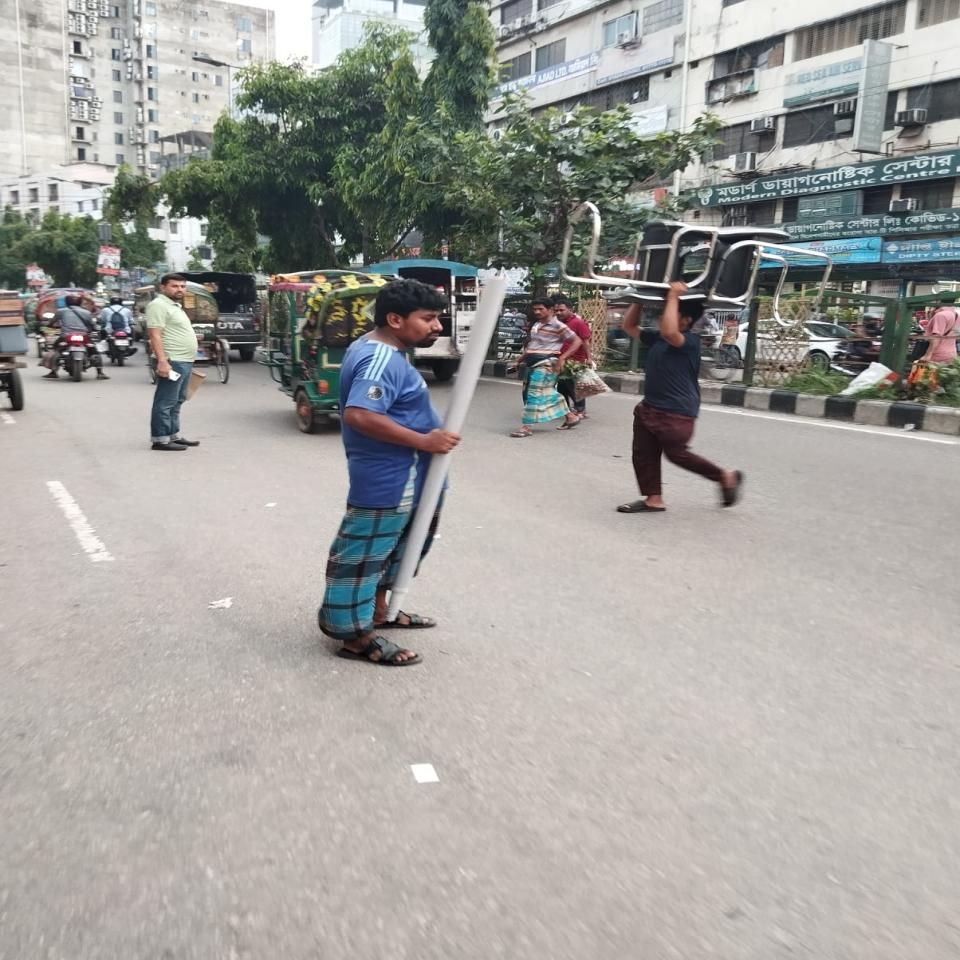person: (318, 279, 460, 667), (616, 281, 742, 514), (510, 298, 582, 438), (145, 274, 199, 452)
